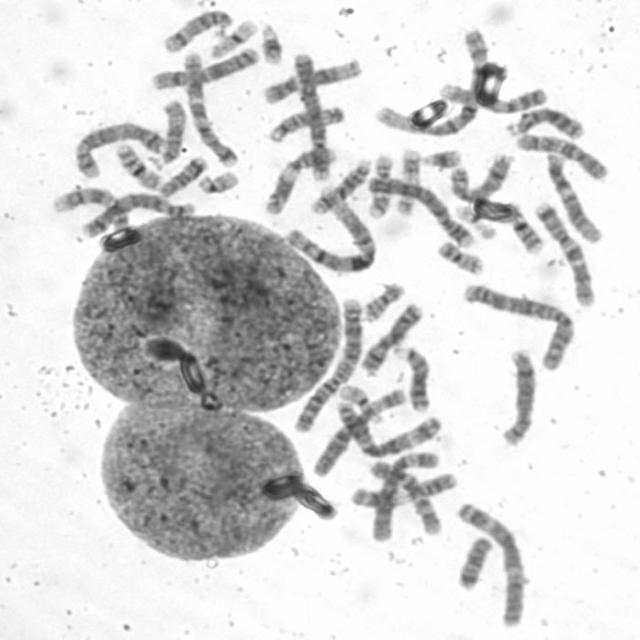A1: (368, 31, 491, 137), (281, 184, 379, 276)
A2: (459, 280, 576, 372), (288, 294, 364, 434)
A3: (453, 498, 529, 629), (332, 398, 442, 458)
B4: (364, 173, 476, 249), (290, 50, 334, 180)
B5: (75, 188, 196, 240), (71, 119, 168, 180)
C10: (369, 457, 446, 538), (513, 130, 609, 182)
C11: (261, 144, 337, 216), (348, 471, 456, 511)
C12: (544, 148, 604, 244), (259, 54, 364, 105)
C6: (308, 383, 406, 478), (367, 451, 442, 538)
C7: (180, 48, 241, 167), (532, 198, 596, 308)
C8: (497, 346, 537, 447), (447, 150, 515, 204)
C9: (52, 186, 132, 243), (435, 80, 550, 114)
D13: (389, 342, 432, 414), (502, 104, 585, 141)
D14: (306, 154, 374, 216), (159, 6, 234, 54)
D15: (265, 102, 346, 144), (149, 96, 189, 170)
E16: (112, 140, 163, 190), (504, 200, 548, 256)
E17: (392, 144, 423, 218), (364, 150, 396, 220)
E18: (156, 153, 210, 198), (455, 534, 494, 592)
F19: (207, 18, 260, 58), (452, 200, 497, 241)
F20: (359, 279, 406, 324), (433, 237, 486, 276)
G21: (257, 20, 284, 66), (418, 145, 463, 170)
G22: (338, 381, 385, 425), (194, 168, 240, 195)
X: (356, 299, 425, 375), (147, 44, 261, 90)
